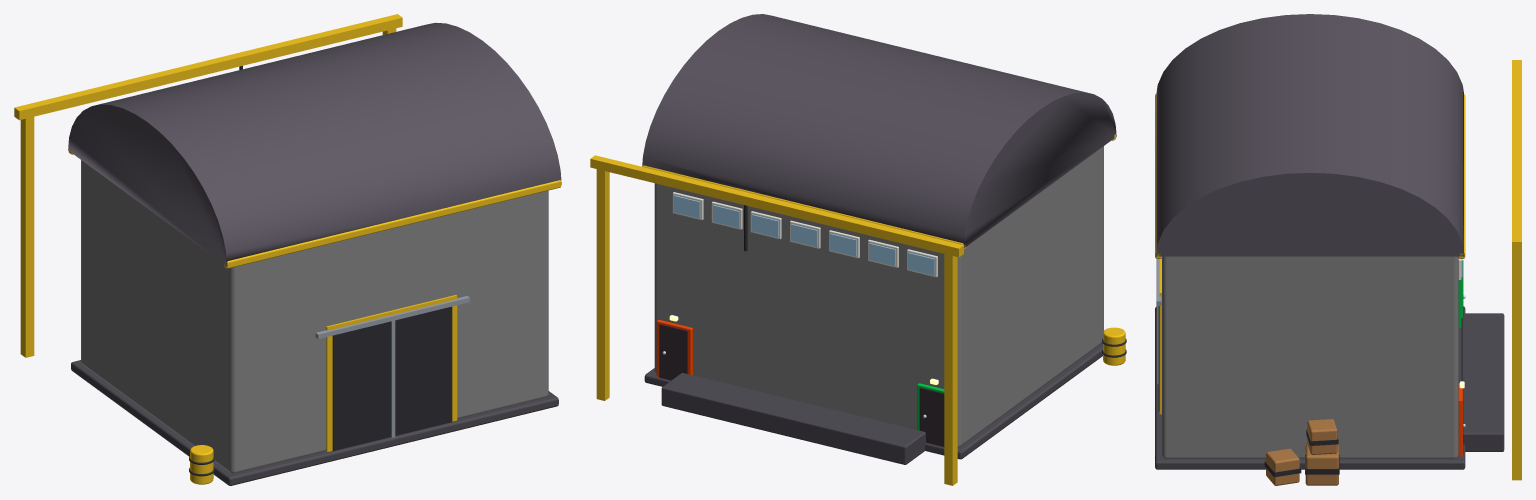
The model's file is building_freight_warehouse_t3.glb.
The picture shows the model from 3 angles, left to right: view 1: azimuth 30°, elevation 25°; view 2: azimuth 150°, elevation 25°; view 3: azimuth 270°, elevation 25°; orthographic projection. The views are drawn at different scales.
Parts seen in each view (by area): view 1: Walls, Roof.Barrel, BigDoor, Plinth, Gantry.Beam, Gantry.Leg, Eave, BigDoor.Frame, BigDoor.Rail, Drum.Drum, BigDoor.Split; view 2: Walls, Roof.Barrel, Dock, Gantry.Beam, Gantry.Leg.001, Gantry.Leg, Plinth, Exit.Leaf, Entry.Leaf, Eave.001, Drum.Drum, Exit.Frame; view 3: Roof.Barrel, Walls, Dock, Plinth, Gantry.Leg.001, Gantry.Beam, Crate1.Box, Crate2.Box, Crate3.Box, BigDoor.Frame.
Part boxes in pixels (x1,y1,x2,y2): Walls: [81, 160, 548, 473]; Roof.Barrel: [68, 22, 561, 266]; BigDoor: [332, 306, 452, 450]; Plinth: [71, 360, 558, 485]; Gantry.Beam: [14, 14, 402, 120]; Gantry.Leg: [20, 117, 34, 357]; Eave: [224, 180, 561, 268]; BigDoor.Frame: [326, 295, 457, 451]; BigDoor.Rail: [315, 296, 469, 338]; Drum.Drum: [190, 445, 213, 484]; BigDoor.Split: [391, 320, 395, 437]; Walls: [654, 146, 1103, 446]; Roof.Barrel: [642, 14, 1116, 247]; Dock: [661, 373, 925, 464]; Gantry.Beam: [590, 155, 963, 257]; Gantry.Leg.001: [596, 165, 609, 400]; Gantry.Leg: [944, 253, 957, 485]; Plinth: [644, 343, 1102, 459]; Exit.Leaf: [659, 324, 687, 380]; Entry.Leaf: [919, 387, 944, 446]; Eave.001: [642, 165, 966, 249]; Drum.Drum: [1103, 327, 1125, 365]; Exit.Frame: [656, 319, 692, 376]; Roof.Barrel: [1155, 14, 1464, 256]; Walls: [1162, 256, 1458, 458]; Dock: [1461, 313, 1504, 451]; Plinth: [1155, 306, 1465, 469]; Gantry.Leg.001: [1512, 250, 1521, 480]; Gantry.Beam: [1512, 60, 1521, 250]; Crate1.Box: [1305, 444, 1338, 485]; Crate2.Box: [1266, 448, 1299, 485]; Crate3.Box: [1307, 419, 1337, 454]; BigDoor.Frame: [1159, 258, 1161, 414].
Bounding box in the file's own units: 7.24 × 5.42 × 6.03.
